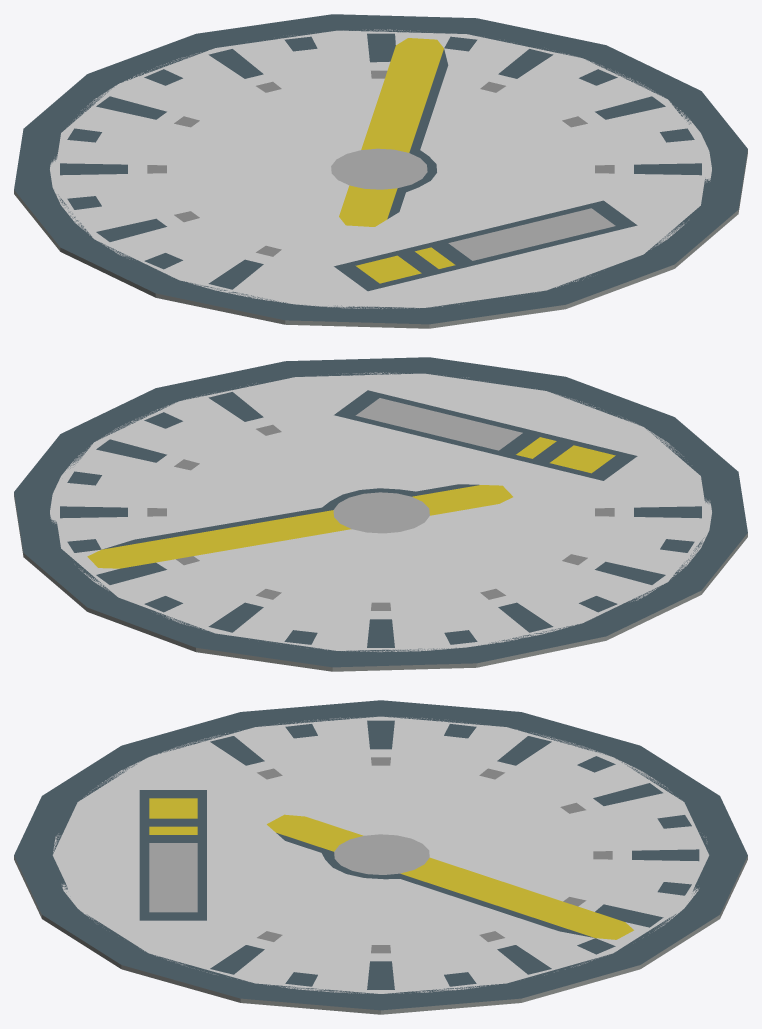
3 renders of one model, top to bottom at view 1: azimuth 30°, elevation 25°; view 2: azimuth 150°, elevation 25°; view 3: azimuth 270°, elevation 25°, orthographic.
Parts seen in each view (by area): view 1: world; view 2: world; view 3: world.
Part boxes in pixels (<box>): world: <box>14,14,747,328</box>; world: <box>14,357,747,671</box>; world: <box>14,700,747,1014</box>.
Bounding box in the file's own units: 0.0152 × 0.0001 × 0.0152.
